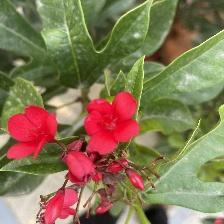jatropha: (86, 90, 142, 158), (7, 105, 61, 164)
